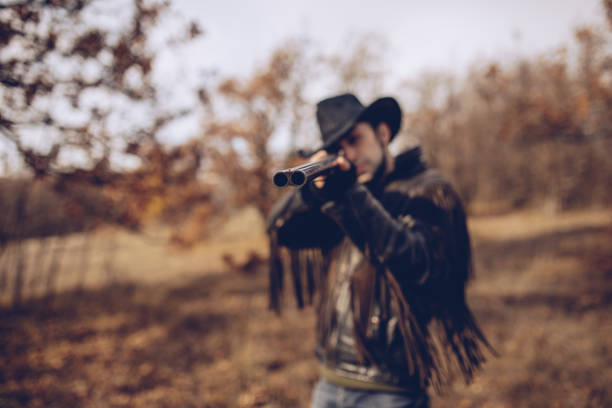gun: (272, 155, 343, 189)
